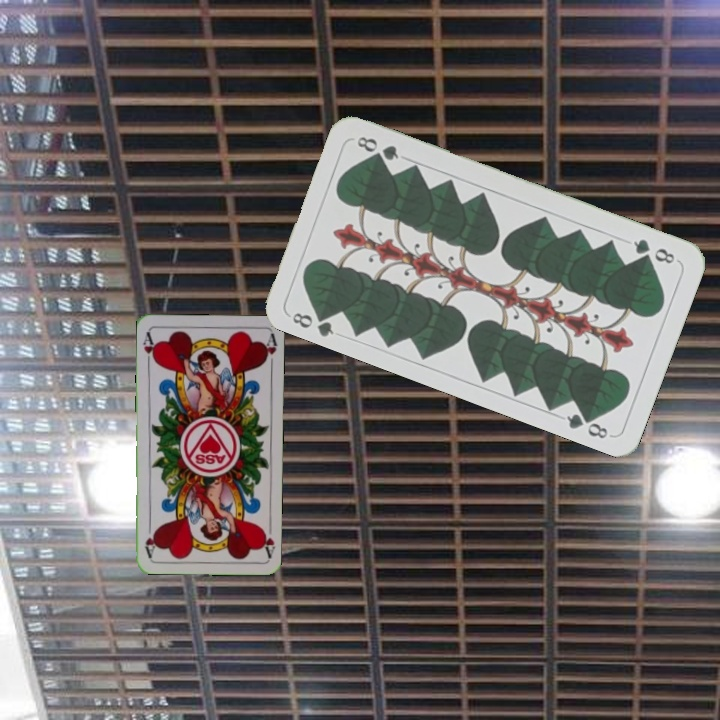G8: (288, 305, 337, 339), (629, 235, 678, 267)
HA: (139, 329, 159, 369), (257, 519, 277, 559)
